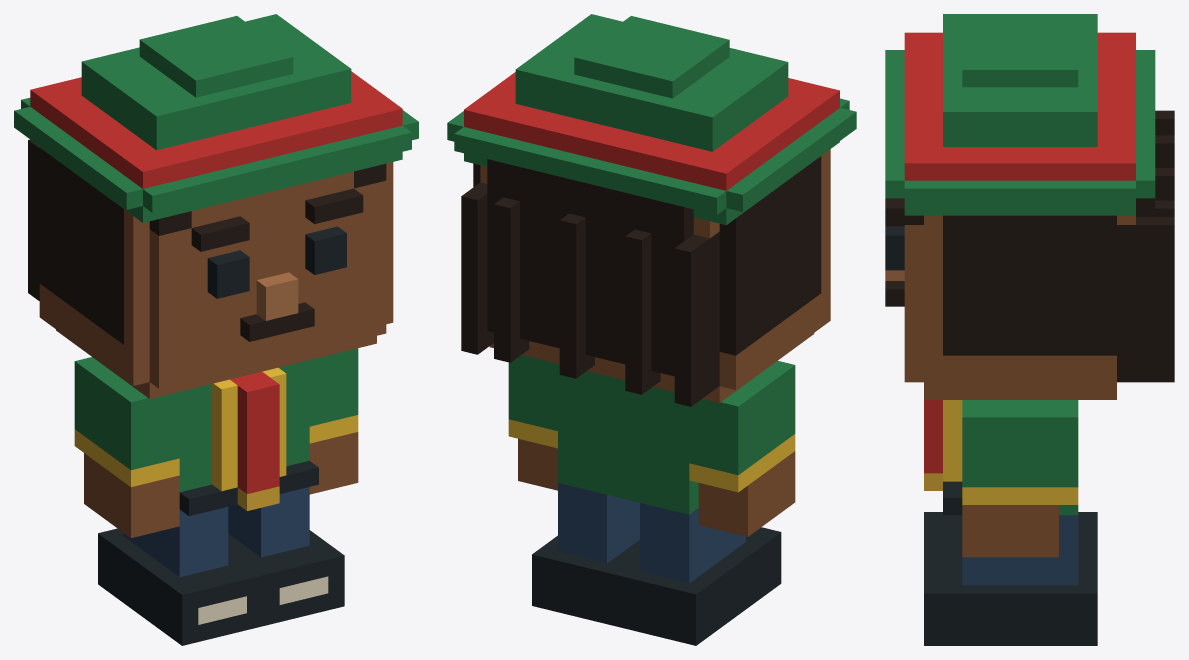
File: rasta_grower.glb
3 views of the same model, side by side, from view 1: azimuth 30°, elevation 25°; view 2: azimuth 150°, elevation 25°; view 3: azimuth 270°, elevation 25° (orthographic). The views are drawn at different scales.
Parts seen in each view (by area): view 1: head, torso, leg_left, arm_left, leg_right, arm_right; view 2: head, leg_left, torso, arm_left, leg_right, arm_right; view 3: head, arm_right, leg_right, torso, leg_left.
Boxes of the visible parts, x1,y1,x2,y2 form: head: (14, 14, 418, 398); torso: (179, 360, 318, 515); leg_left: (98, 507, 263, 645); arm_left: (74, 357, 179, 537); leg_right: (228, 487, 344, 625); arm_right: (309, 348, 358, 494); head: (447, 14, 856, 406); leg_left: (614, 503, 781, 645); torso: (558, 364, 698, 514); arm_left: (689, 361, 795, 536); leg_right: (532, 483, 639, 625); arm_right: (508, 355, 557, 490); head: (885, 14, 1174, 399); arm_right: (962, 400, 1078, 557); leg_right: (924, 515, 1097, 645); torso: (924, 400, 1078, 515); leg_left: (924, 512, 1097, 552).
Size of the model in its own units: 0.9 by 1.6 by 0.75.
1 material, 1 textured.
